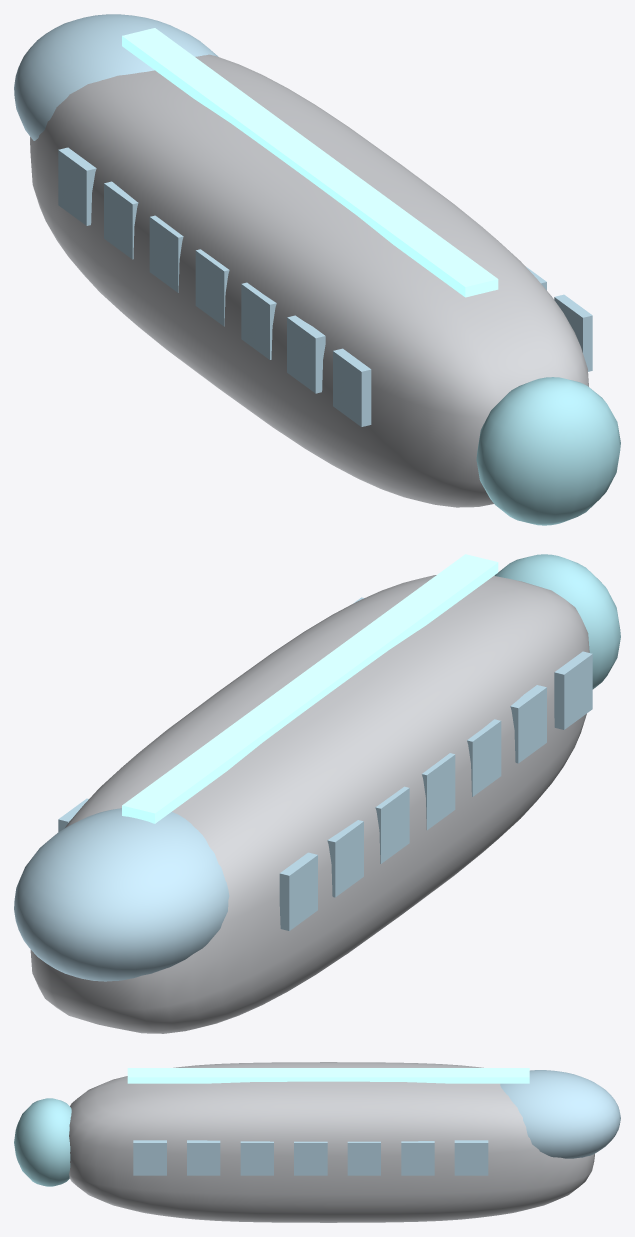
The model's file is Flug_Luftbus.fbx.
3 views of the same model, one above another, from view 1: azimuth 30°, elevation 25°; view 2: azimuth 150°, elevation 25°; view 3: azimuth 270°, elevation 25° (orthographic). The views are drawn at different scales.
Visible parts, largest first — view 1: Flug_Luftbus; view 2: Flug_Luftbus; view 3: Flug_Luftbus.
Boxes of the visible parts, x1=… form: Flug_Luftbus: x1=14, y1=14, x2=620, y2=525; Flug_Luftbus: x1=14, y1=554, x2=620, y2=1033; Flug_Luftbus: x1=14, y1=1062, x2=620, y2=1222.
Bounding box in the file's own units: 700 × 670 × 2720.
